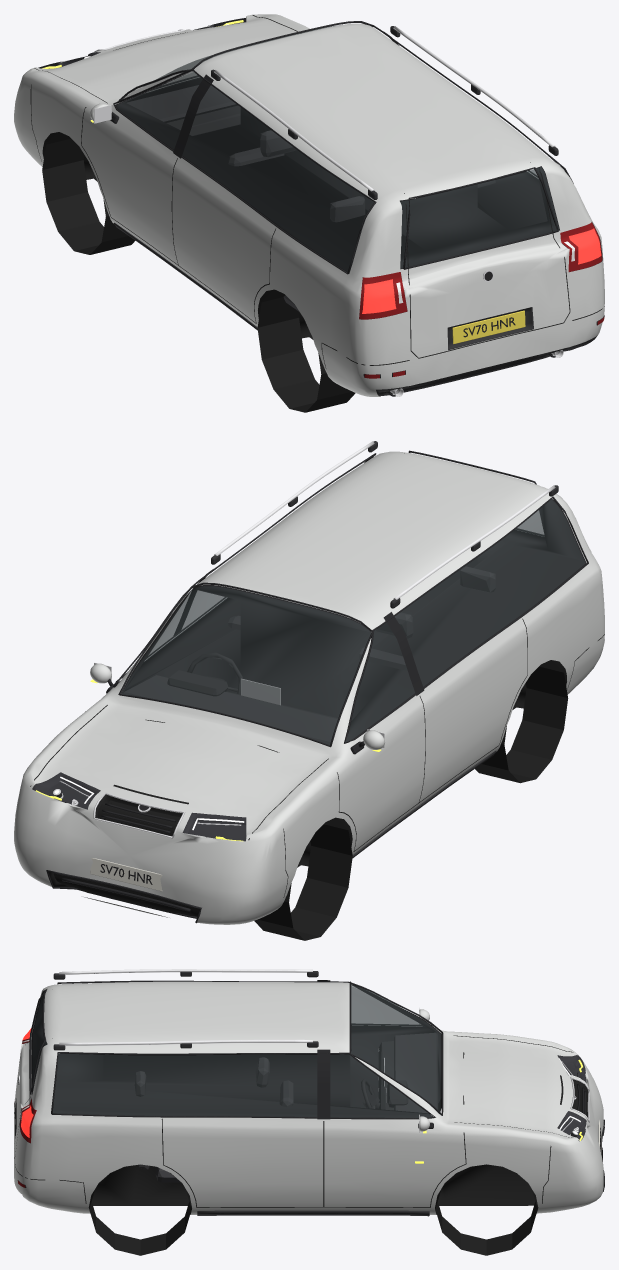
The model's file is civ_suv.glb.
The picture shows the model from 3 angles, top to bottom: view 1: azimuth 30°, elevation 25°; view 2: azimuth 150°, elevation 25°; view 3: azimuth 270°, elevation 25°; orthographic projection. The views are drawn at different scales.
Visible parts, largest first — view 1: civ_suv; view 2: civ_suv; view 3: civ_suv.
Boxes of the visible parts, x1,y1,x2,y2 form: civ_suv: (14, 14, 604, 412); civ_suv: (14, 441, 604, 940); civ_suv: (14, 969, 604, 1255).
Size of the model in its own units: 2.11 by 1.74 by 4.59.
